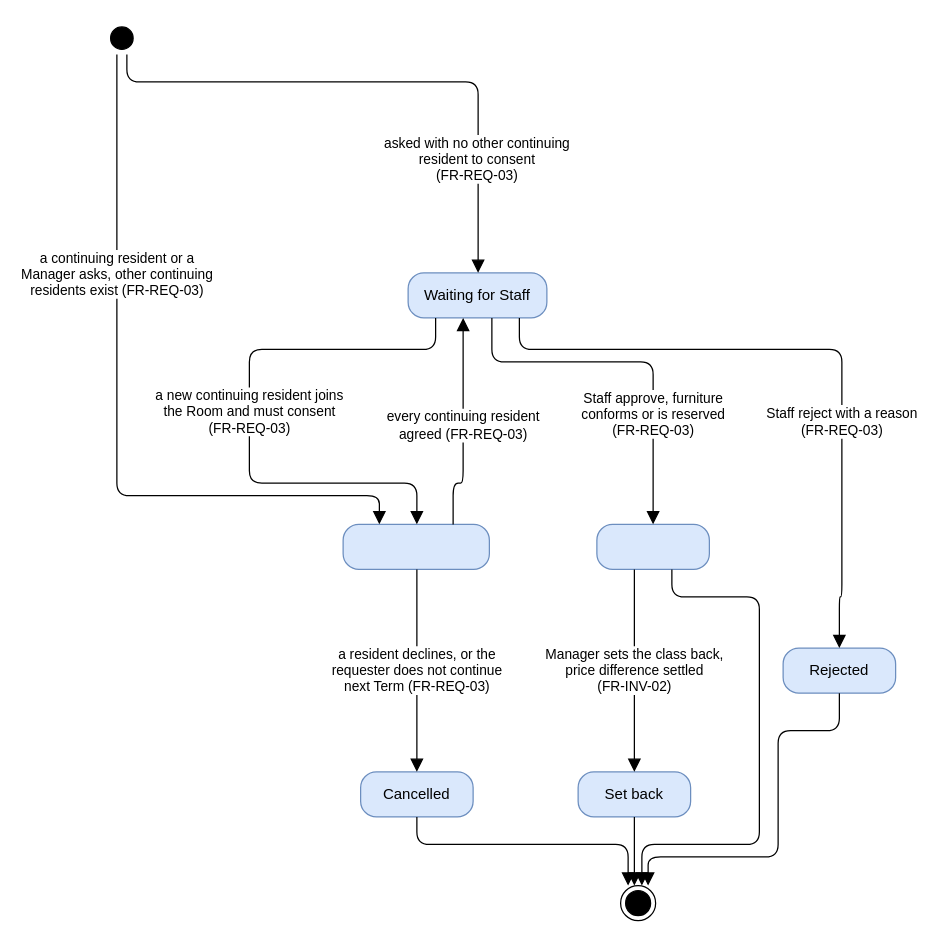
Image size: 939x943. Some labels were removed from this diagram. Each missing label, with the centre of its shape:
Approved: the point at 652,546
Awaiting consent: the point at 415,546
